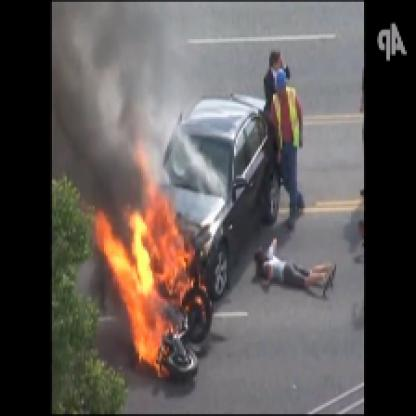Fire: (95, 152, 206, 375)
Smoke: (58, 2, 156, 187)
